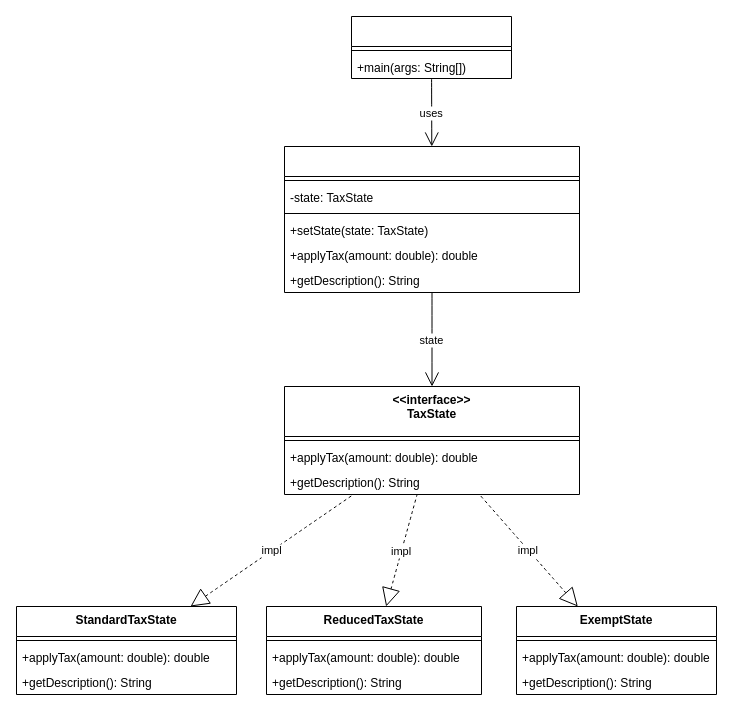
Image size: 733x711. Some labels were removed from this diagram. The shapes that lost their labels are listed below. From the top down, each one's box as (x1, y1, x2, y2) in pixels, then its label:
(350, 16, 512, 78): TaxStateMain
(284, 146, 580, 292): TaxContext
